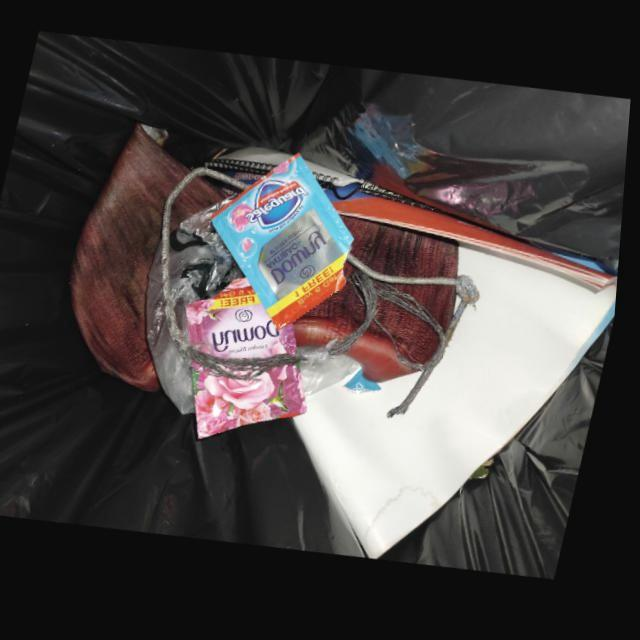cardboard: (297, 187, 622, 564)
plastic_sachet: (214, 157, 358, 334), (190, 280, 313, 442)
